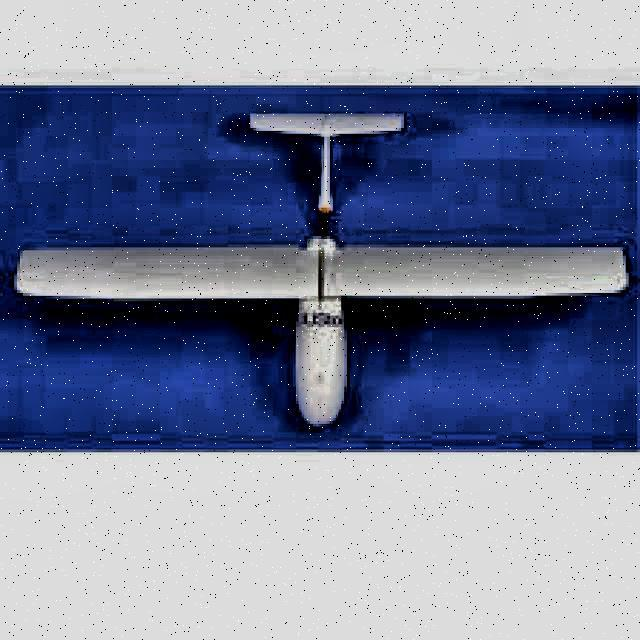iha: (6, 106, 631, 432)
